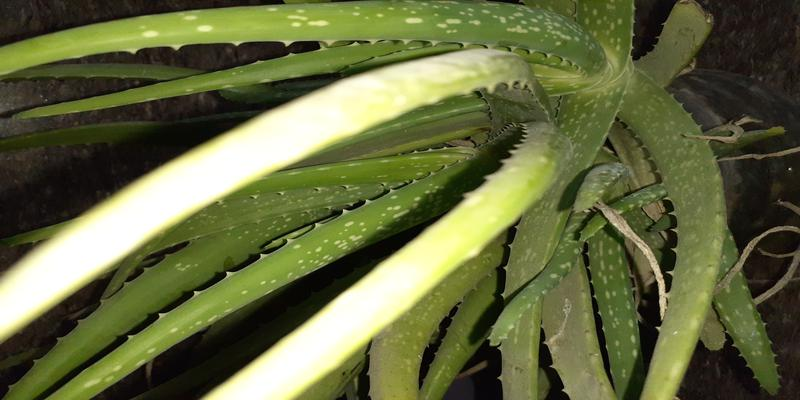Aloevera: (176, 12, 761, 369)
